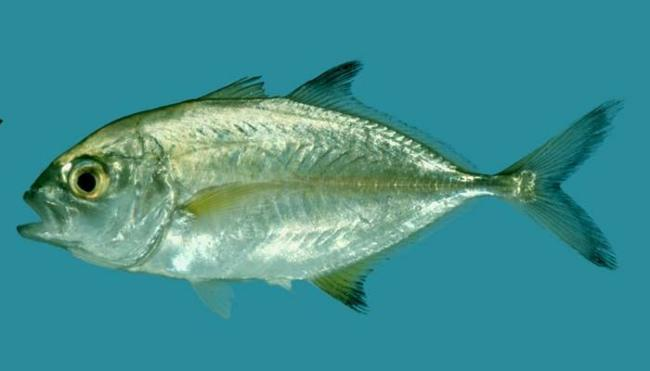fish: (16, 59, 623, 318)
